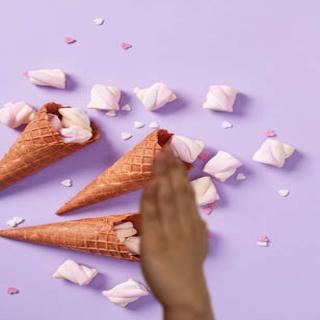RIGHT: (131, 143, 215, 315)
